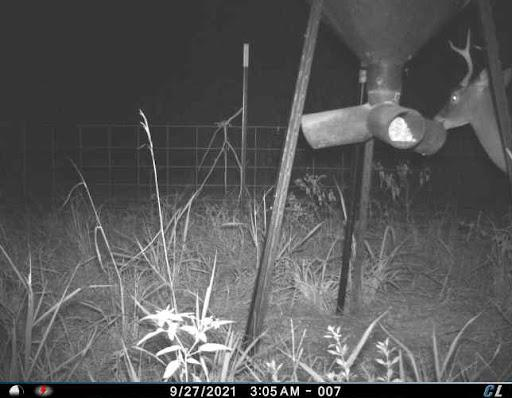Deer: (434, 16, 512, 186)
